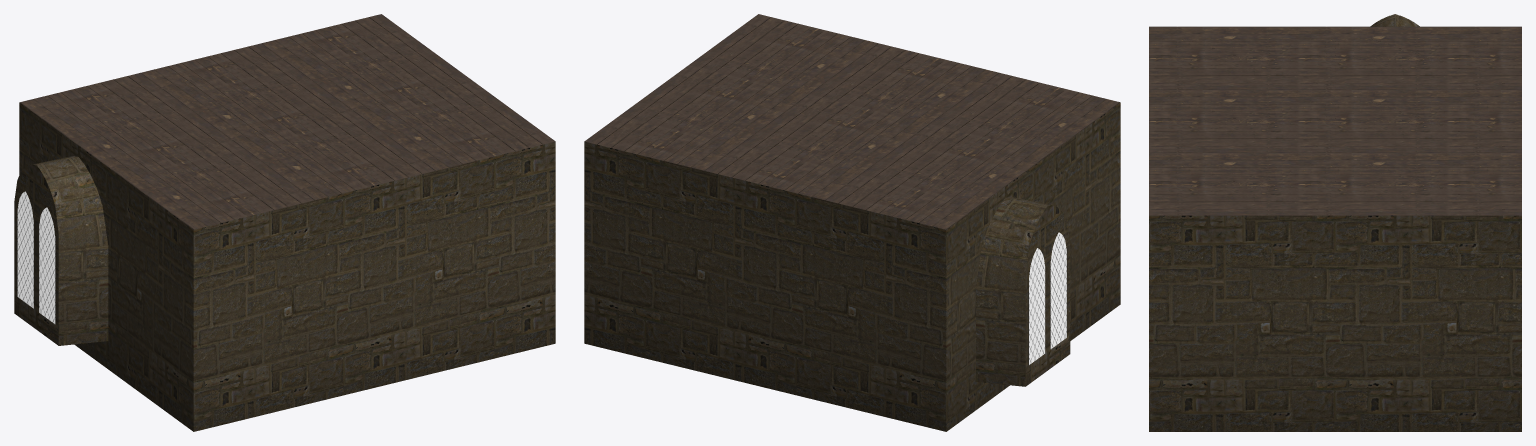
Rendered from room.glb.
3 renders of one model, left to right at view 1: azimuth 30°, elevation 25°; view 2: azimuth 150°, elevation 25°; view 3: azimuth 270°, elevation 25°, orthographic. The views are drawn at different scales.
Visible parts, largest first — view 1: room, glass; view 2: room, glass; view 3: room.
Part boxes in pixels (left/top/right/bottom): room: left=14, top=14, right=555, bottom=431; glass: left=17, top=191, right=55, bottom=324; room: left=584, top=14, right=1120, bottom=431; glass: left=1028, top=232, right=1066, bottom=365; room: left=1149, top=14, right=1521, bottom=431.
Bounding box in the file's own units: 6.7 × 3.2 × 5.
Materials: 8 (5 with a texture image).
